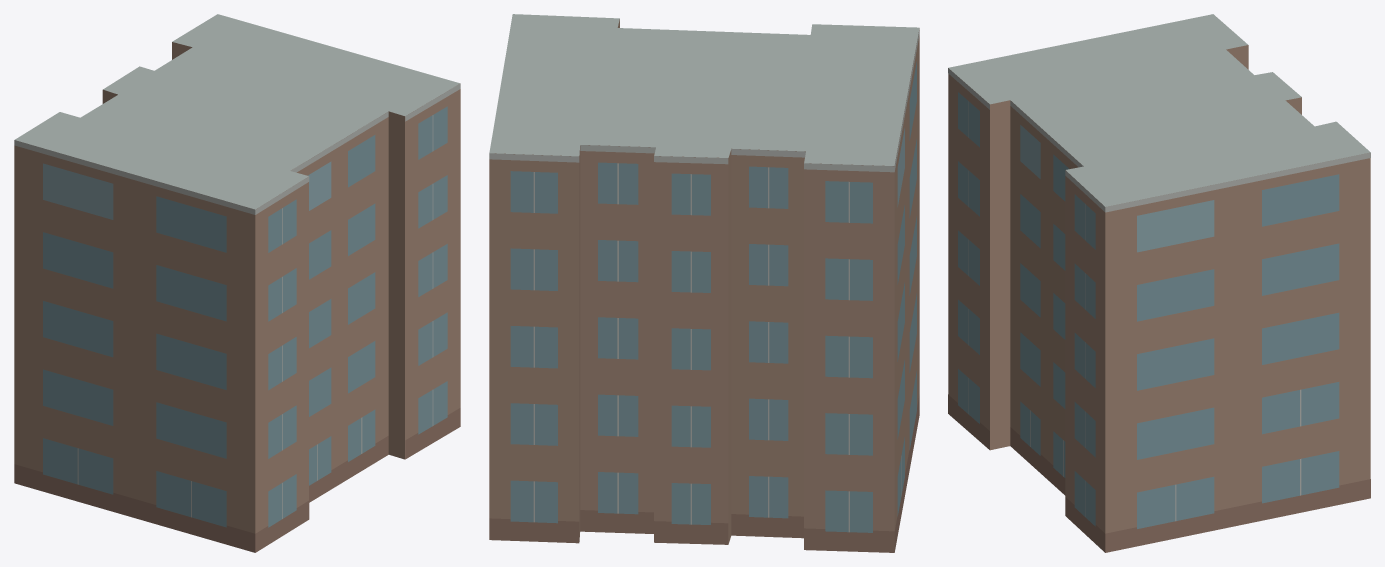
Rendered from survey-upis-32743335.glb.
3 renders of one model, left to right at view 1: azimuth 30°, elevation 25°; view 2: azimuth 150°, elevation 25°; view 3: azimuth 270°, elevation 25°, orthographic. The views are drawn at different scales.
Parts seen in each view (by area): view 1: survey-upis-32743335.tmp; view 2: survey-upis-32743335.tmp; view 3: survey-upis-32743335.tmp.
Part boxes in pixels (bbox=[...]): survey-upis-32743335.tmp: bbox=[14, 14, 460, 552]; survey-upis-32743335.tmp: bbox=[489, 14, 919, 552]; survey-upis-32743335.tmp: bbox=[948, 14, 1370, 552].
Size of the model in its own units: 18.26 by 15.25 by 16.9.
